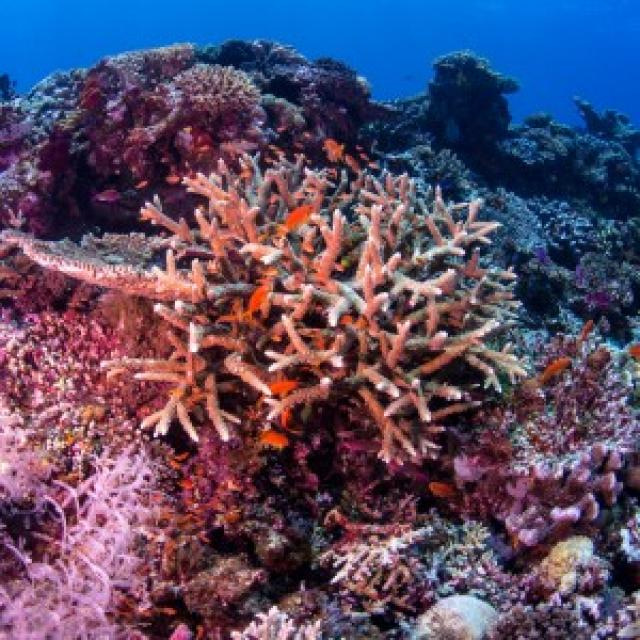Healthy: (144, 161, 524, 460), (1, 44, 263, 238), (240, 522, 639, 639), (458, 338, 639, 566), (167, 440, 372, 630), (1, 400, 152, 639), (3, 317, 135, 477)
